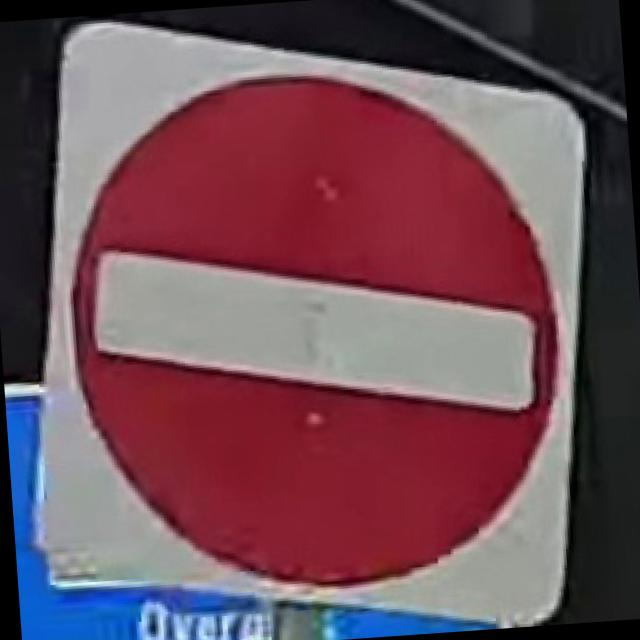noentry_sign: (3, 0, 624, 640)
